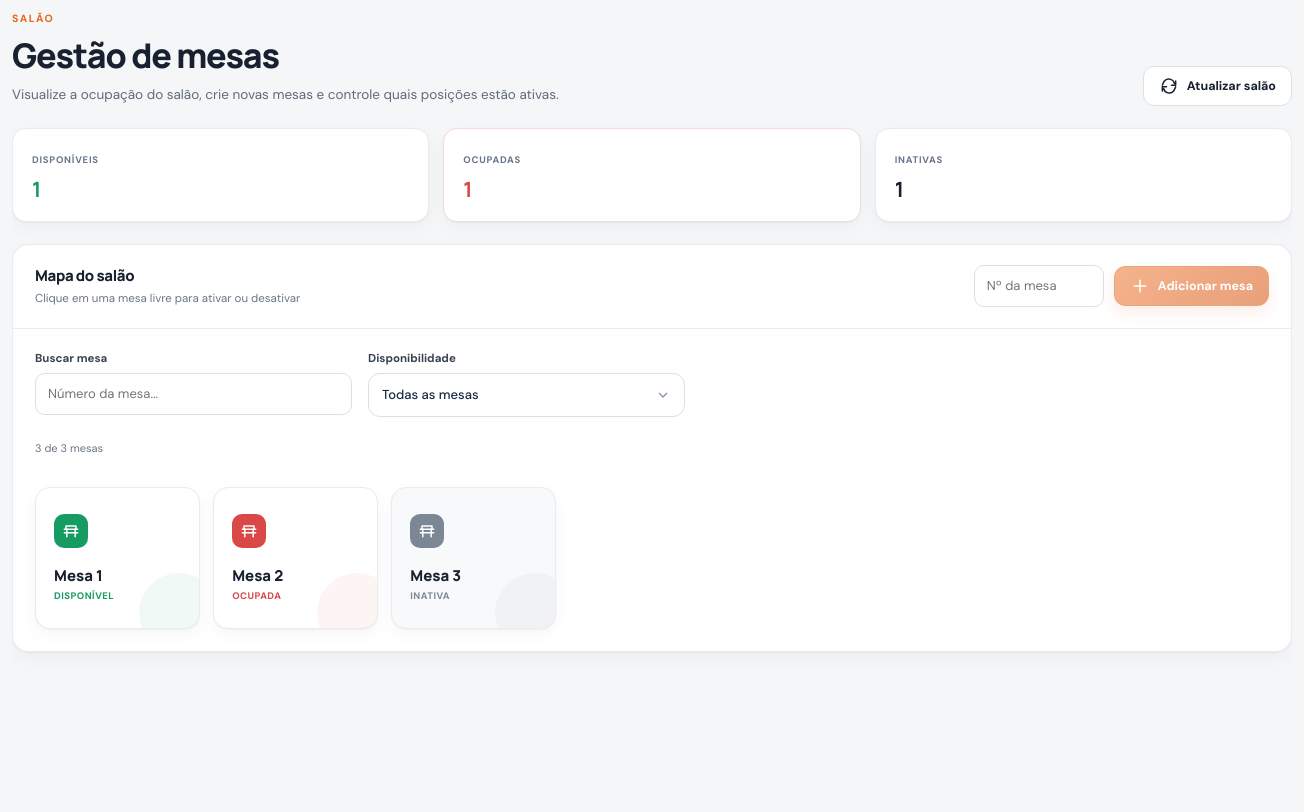
mesa ocupada não abre desativação e explica o motivo
Expected: the button with aria-label "Mesa 1, disponivel" is shown, [35, 487, 200, 629]
Click the button with aria-label "Mesa 2, ocupada": (296, 558) [213, 487, 378, 629]
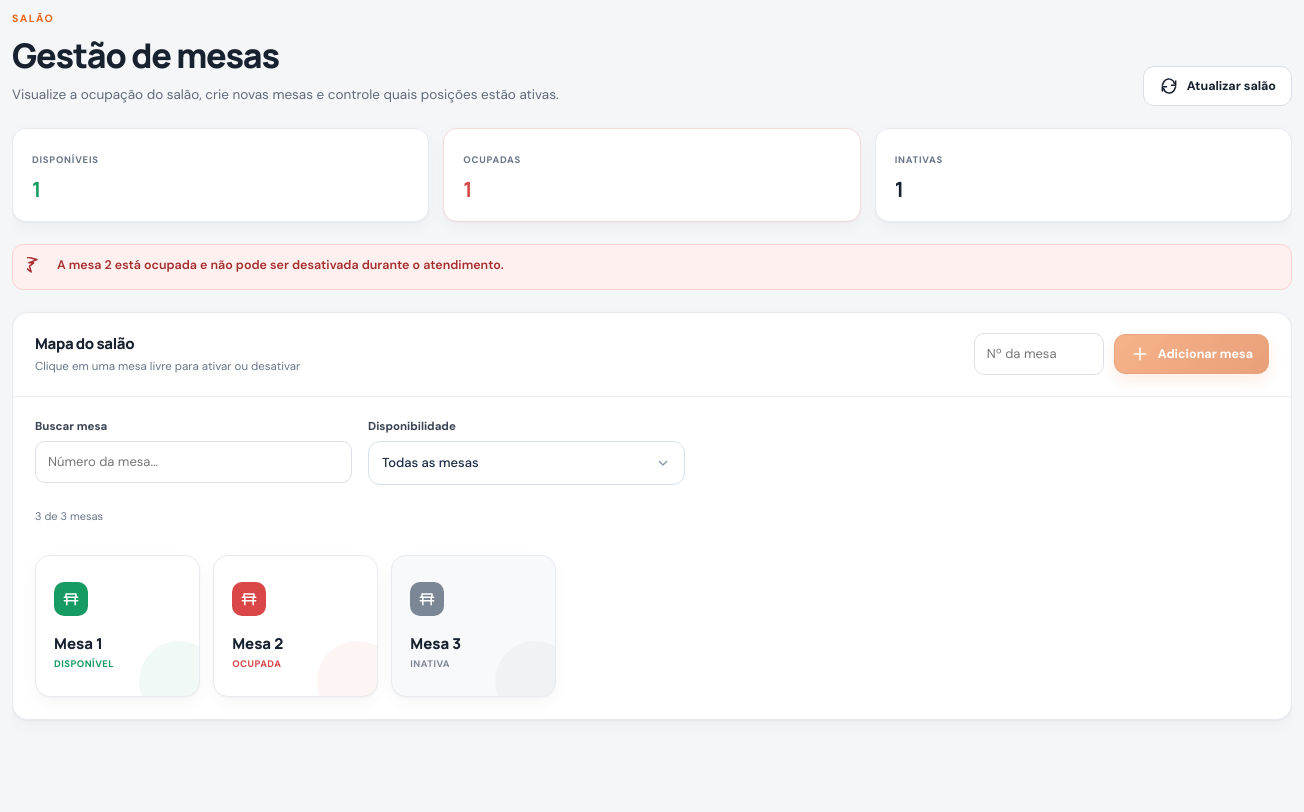
Result: the message shows "não pode ser desativada durante o atendimento" at [57, 257, 504, 273]
